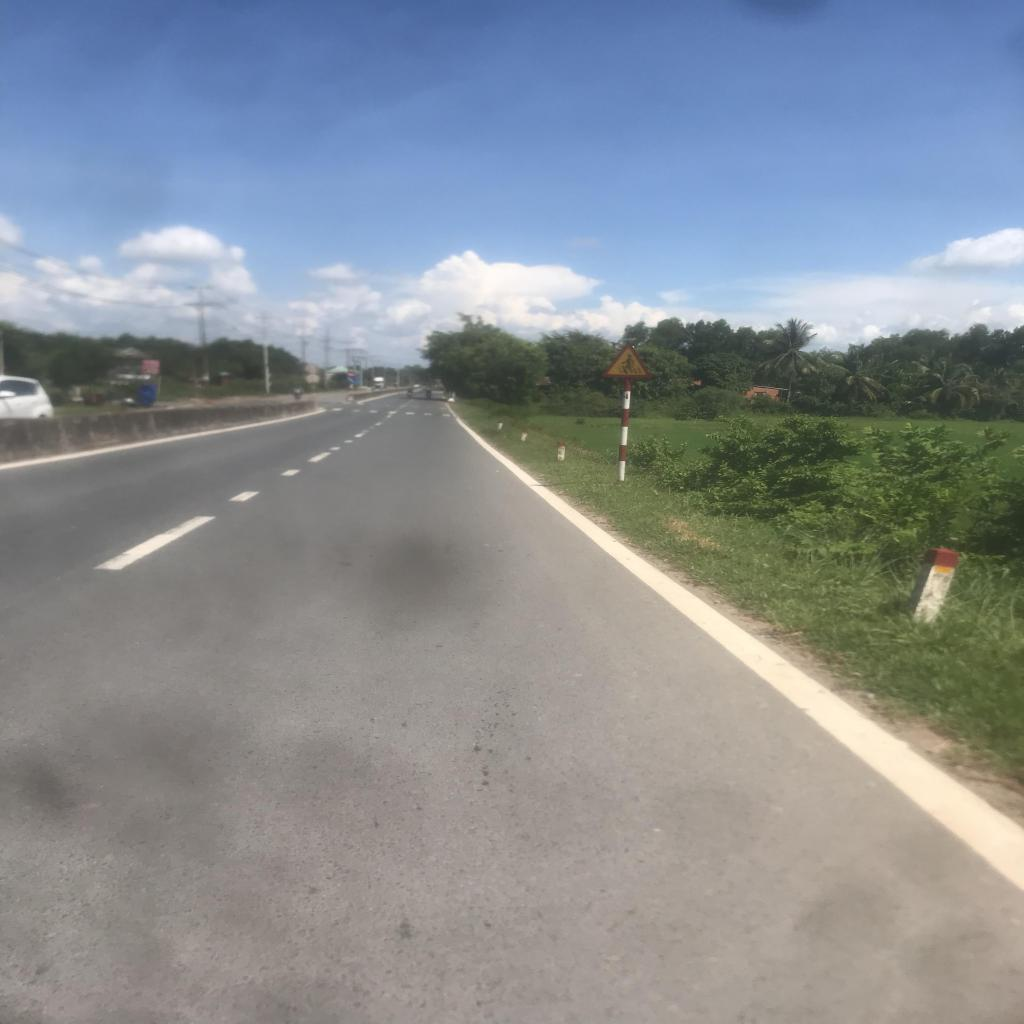chu_y_nguoi_di_bo_cat_ngang: (600, 341, 652, 378)
